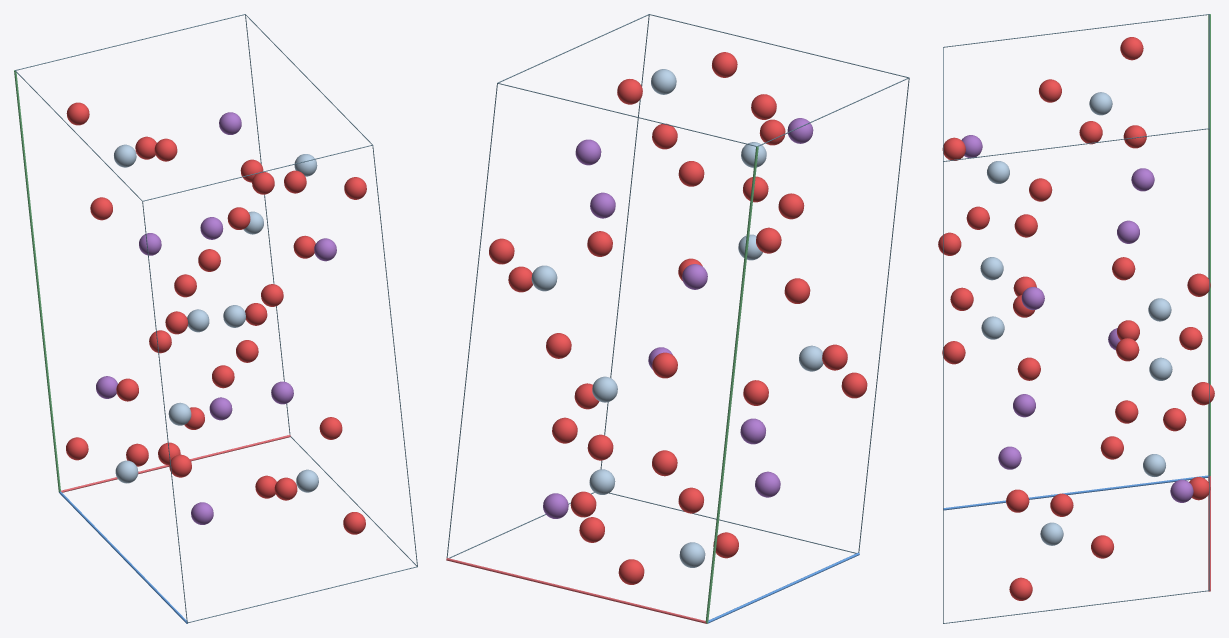
File: chat-lopezite.glb
3 renders of one model, left to right at view 1: azimuth 30°, elevation 25°; view 2: azimuth 150°, elevation 25°; view 3: azimuth 270°, elevation 25°, orthographic. The views are drawn at different scales.
Visible parts, largest first — view 1: Ô mạng và các trục a, b, c; view 2: Ô mạng và các trục a, b, c; view 3: Ô mạng và các trục a, b, c, O10 · O · 1 (×2), O4 · O · 1 (×2), K2 · K · 1 (×2), O14 · O · 1 (×2), Cr3 · Cr · 1 (×2), Cr4 · Cr · 1 (×2), O3 · O · 1 (×2), O8 · O · 1 (×2), O6 · O · 1 (×2), Cr2 · Cr · 1 (×2), O9 · O · 1 (×2) (+10 smaller).
Part boxes in pixels (<box>): Ô mạng và các trục a, b, c: <box>14,14,417,623</box>; Ô mạng và các trục a, b, c: <box>446,14,909,623</box>; Ô mạng và các trục a, b, c: <box>943,14,1210,623</box>; O10 · O · 1 (×2): <box>1014,214,1138,423</box>; O4 · O · 1 (×2): <box>1029,178,1123,459</box>; K2 · K · 1 (×2): <box>998,168,1154,469</box>; O14 · O · 1 (×2): <box>942,273,1210,364</box>; Cr3 · Cr · 1 (×2): <box>981,298,1171,339</box>; Cr4 · Cr · 1 (×2): <box>980,257,1172,380</box>; O3 · O · 1 (×2): <box>1009,37,1143,600</box>; O8 · O · 1 (×2): <box>950,287,1202,350</box>; O6 · O · 1 (×2): <box>1050,121,1102,516</box>; Cr2 · Cr · 1 (×2): <box>1040,92,1112,545</box>; O9 · O · 1 (×2): <box>938,232,1214,405</box>.
Size of the model in its own units: 9 by 14.42 by 7.6.
